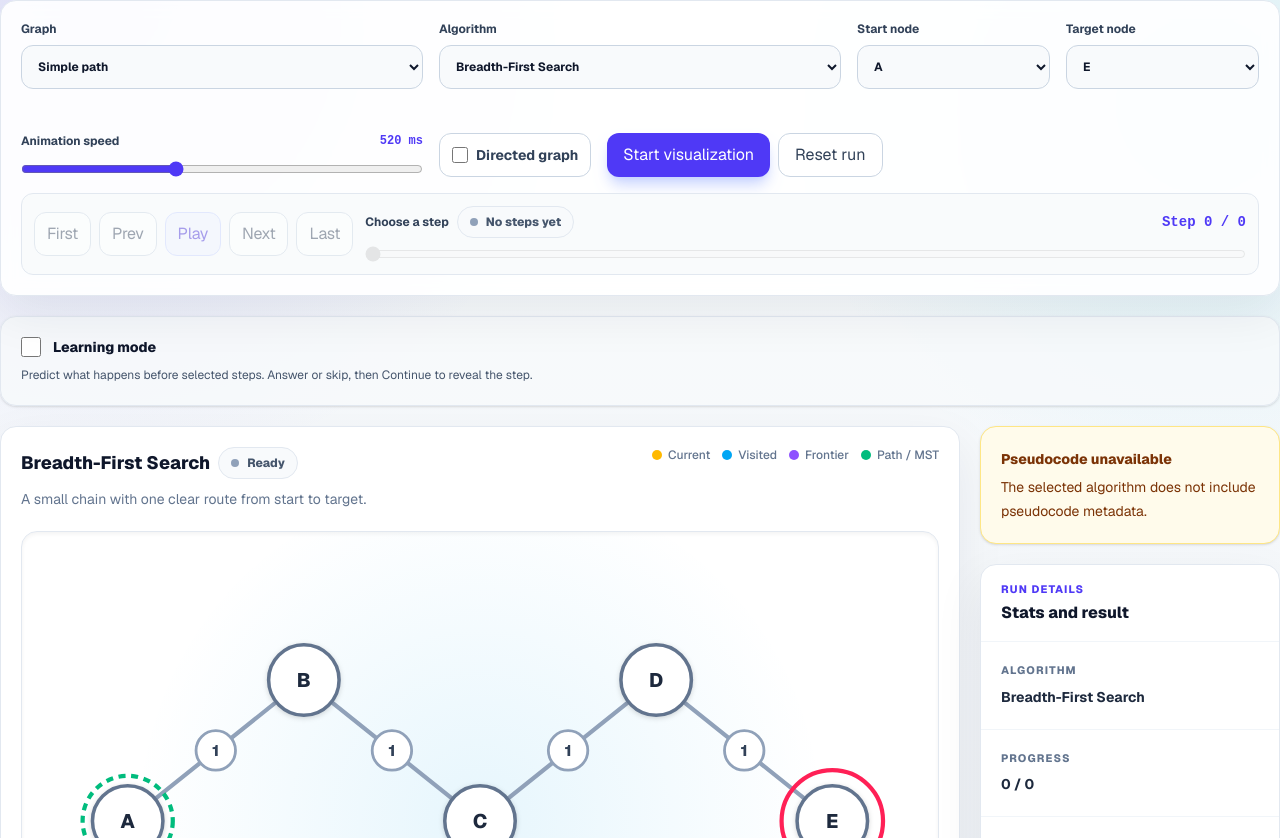
Test: visualizer learning integration › wires learning checkpoints and reset in graph
The width and height of the screenshot is (1280, 838).
Select "Breadth-First Search" in the dropdown labelled "Algorithm" at (640, 67), box [439,45,841,89]
Click the checkbox labelled "Learning mode" at (31, 347), box [21,337,41,357]
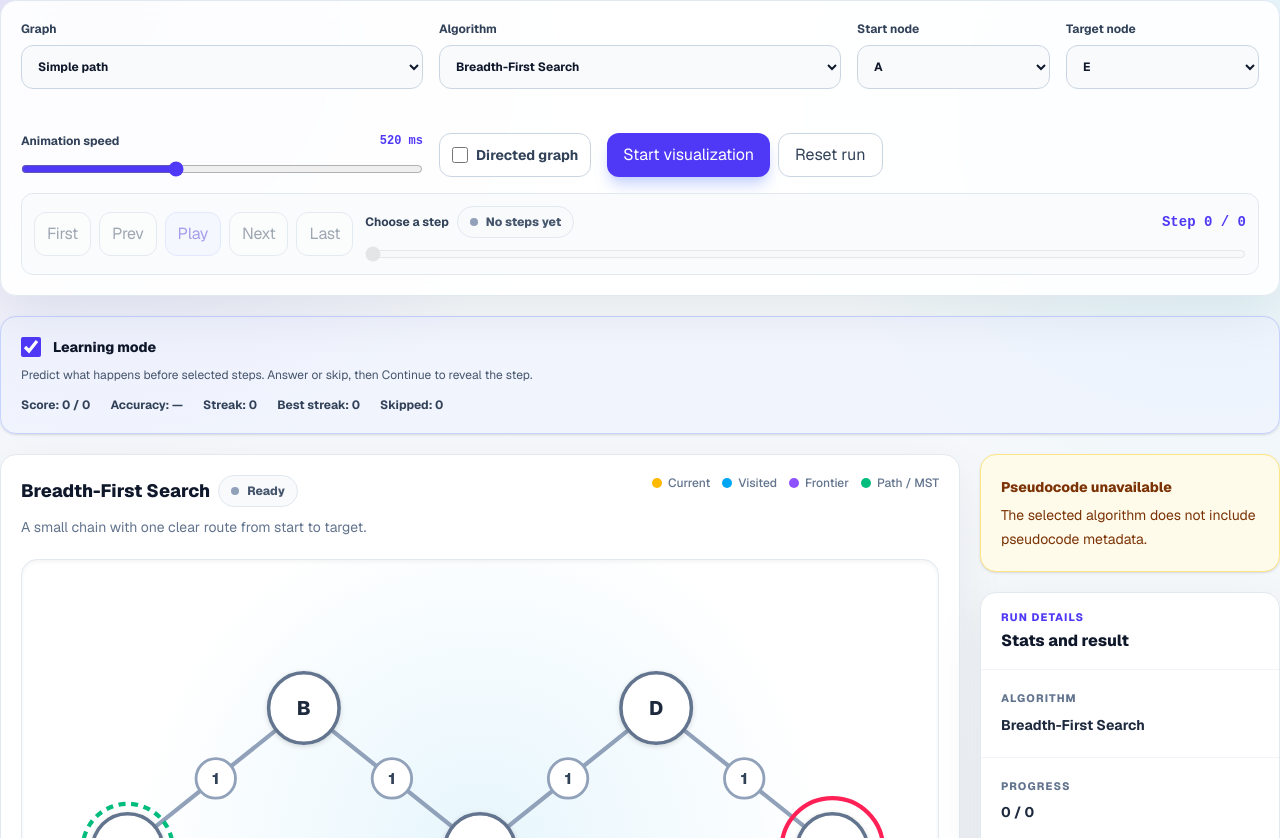
Click the button "Start visualization" at (689, 155), box [607,133,770,177]
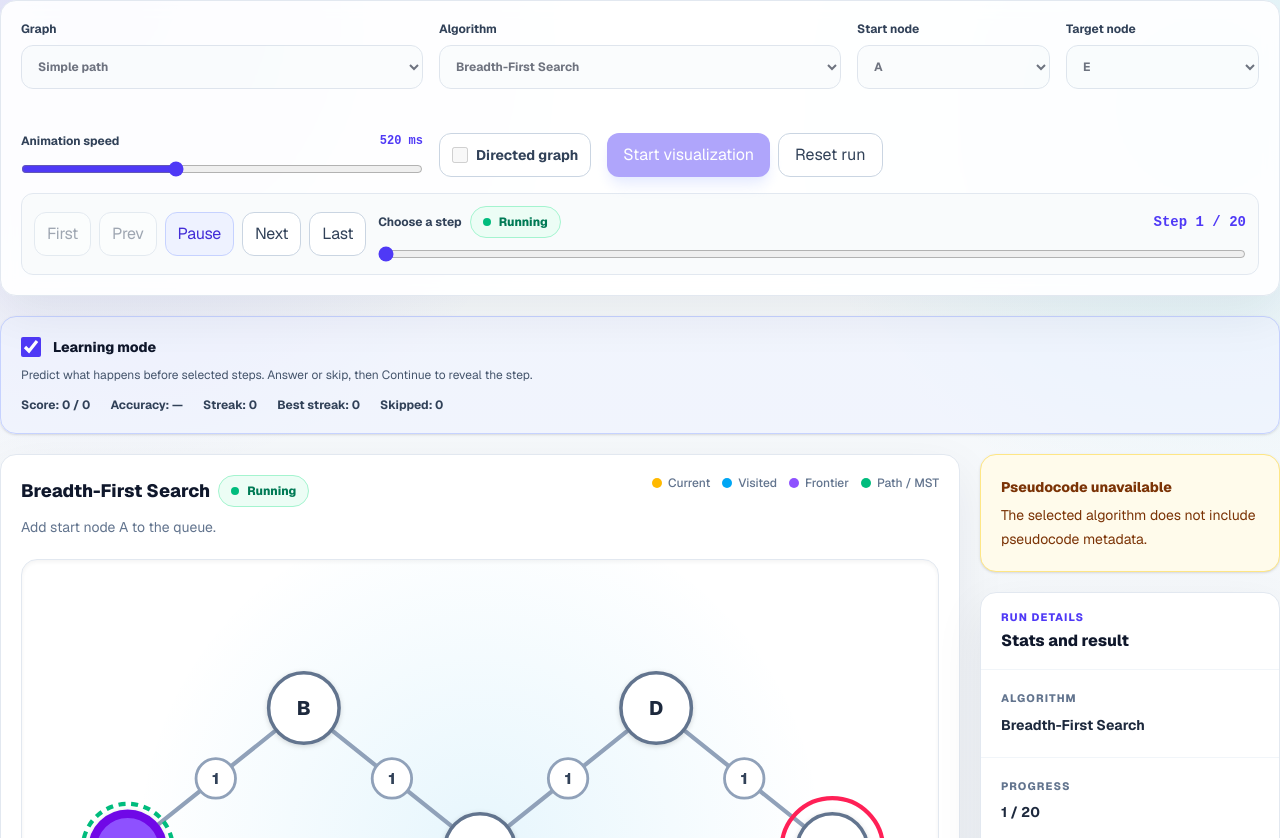
Check: the button with aria-label "Jump to last step" is enabled
Click the button with aria-label "Jump to last step" at (338, 234), box [309,212,366,256]
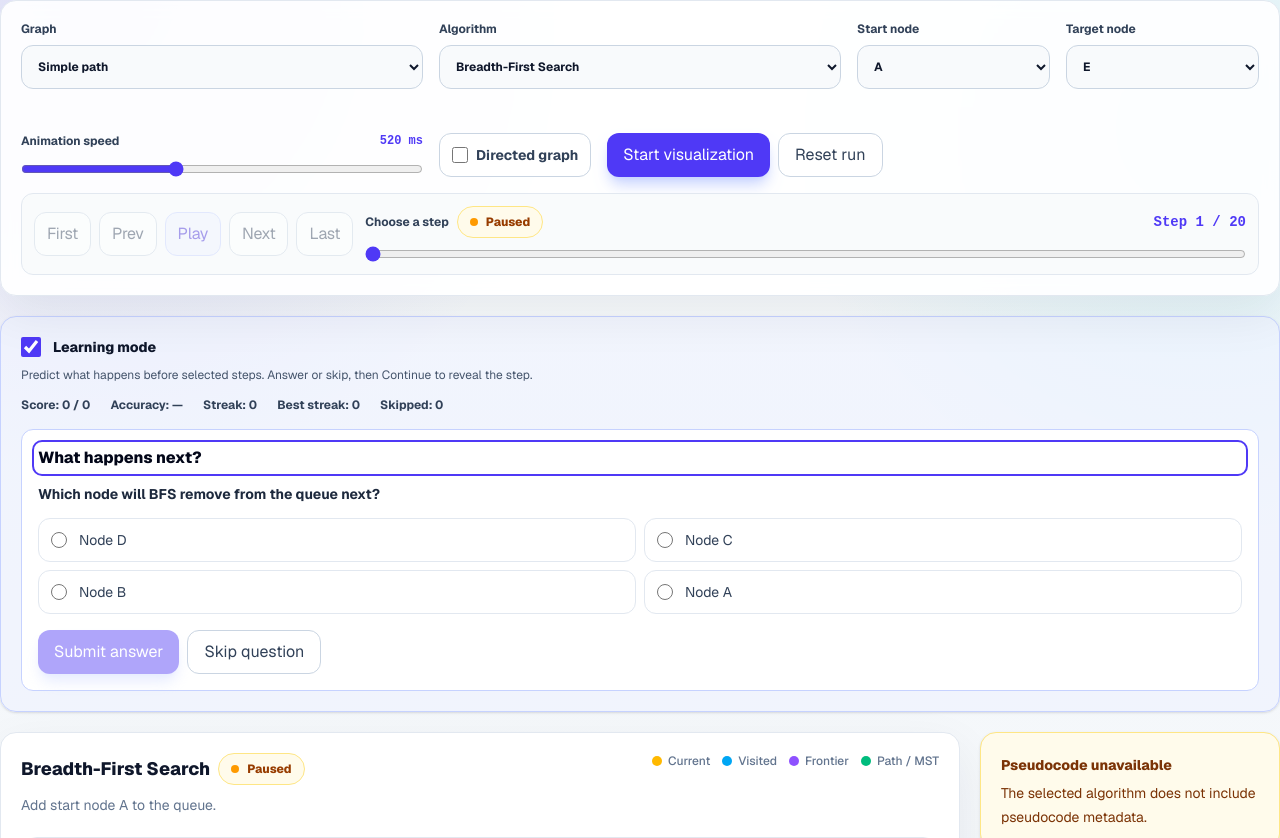
Check: the heading "What happens next?" is shown, box [38,447,202,468]
Click the button "Skip question" at (254, 652), box [187,630,321,674]
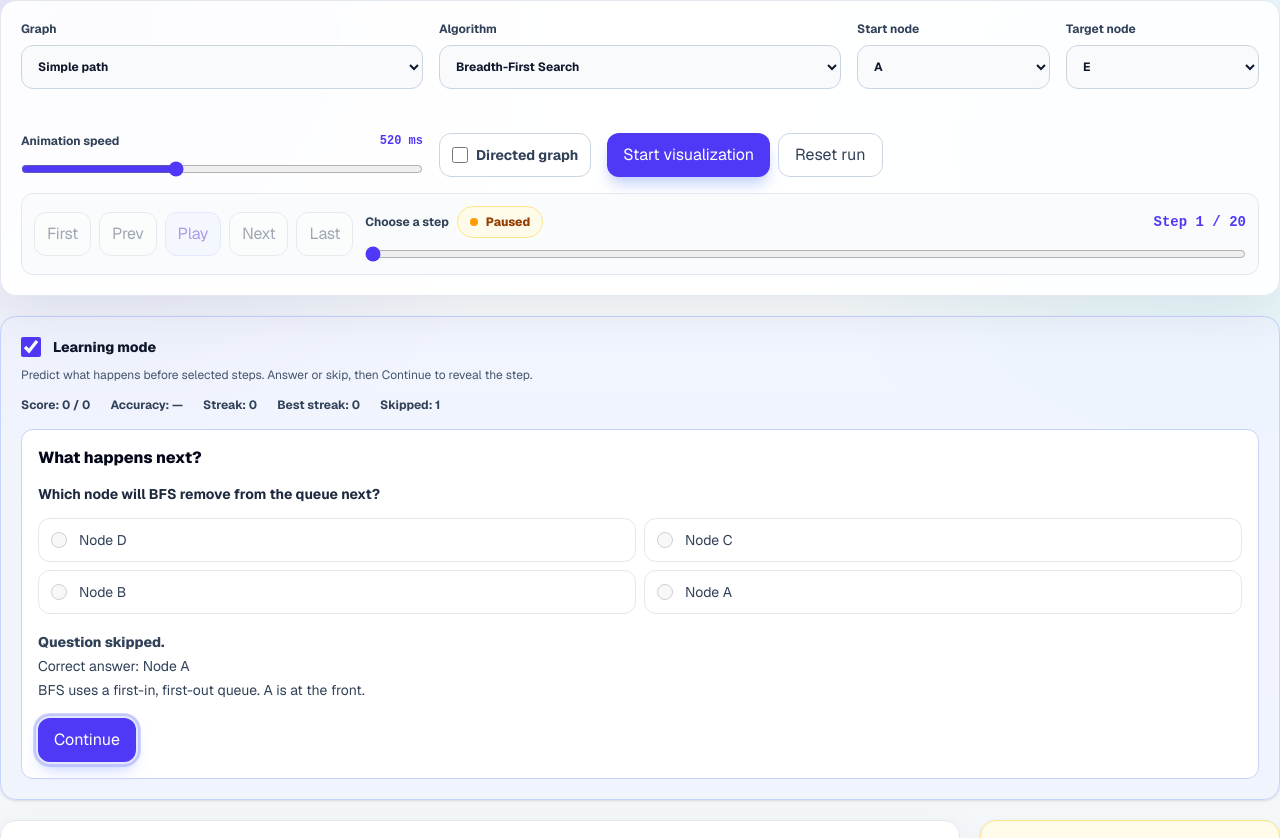
Check: the text "Skipped: 1" is shown, box [380,397,440,413]
Click the button "Continue" at (87, 740), box [38,718,136,762]
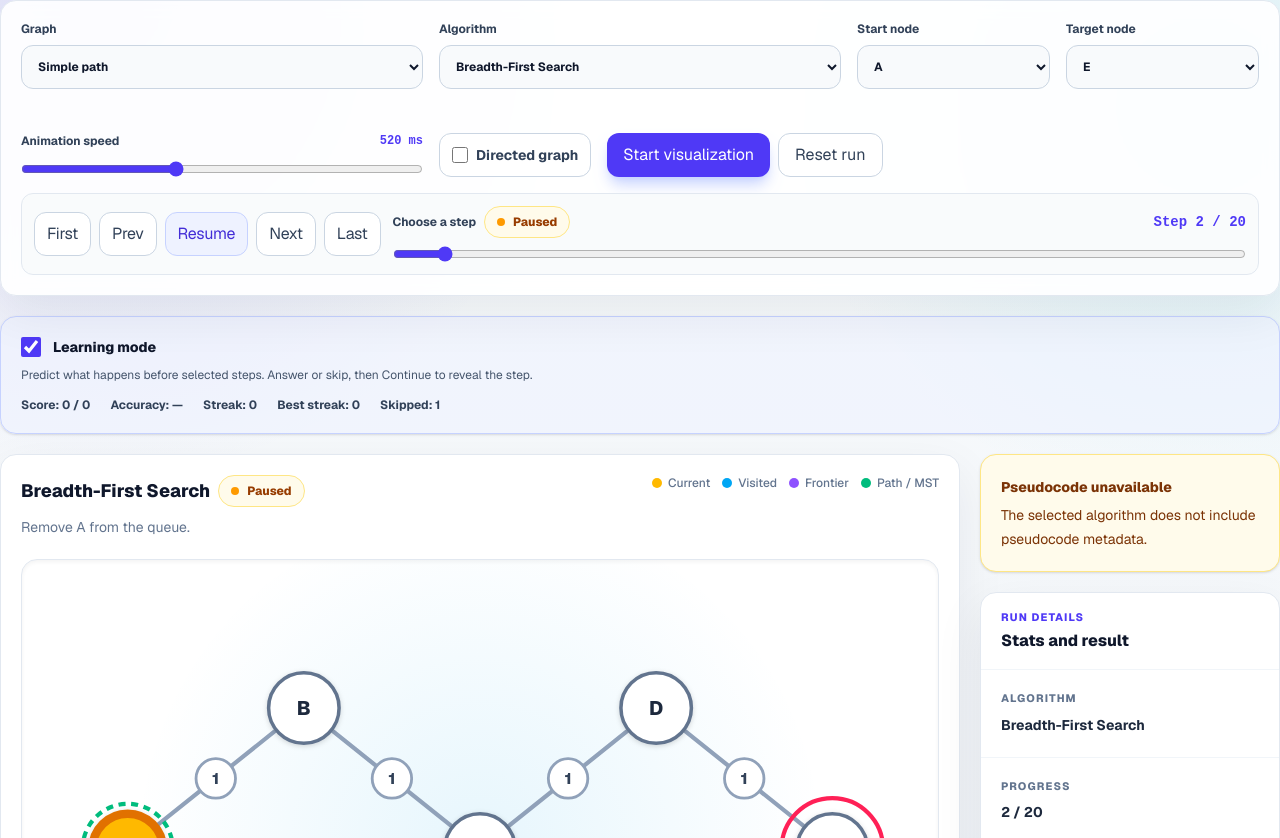
Click the button "Reset run" at (830, 155), box [778,133,882,177]
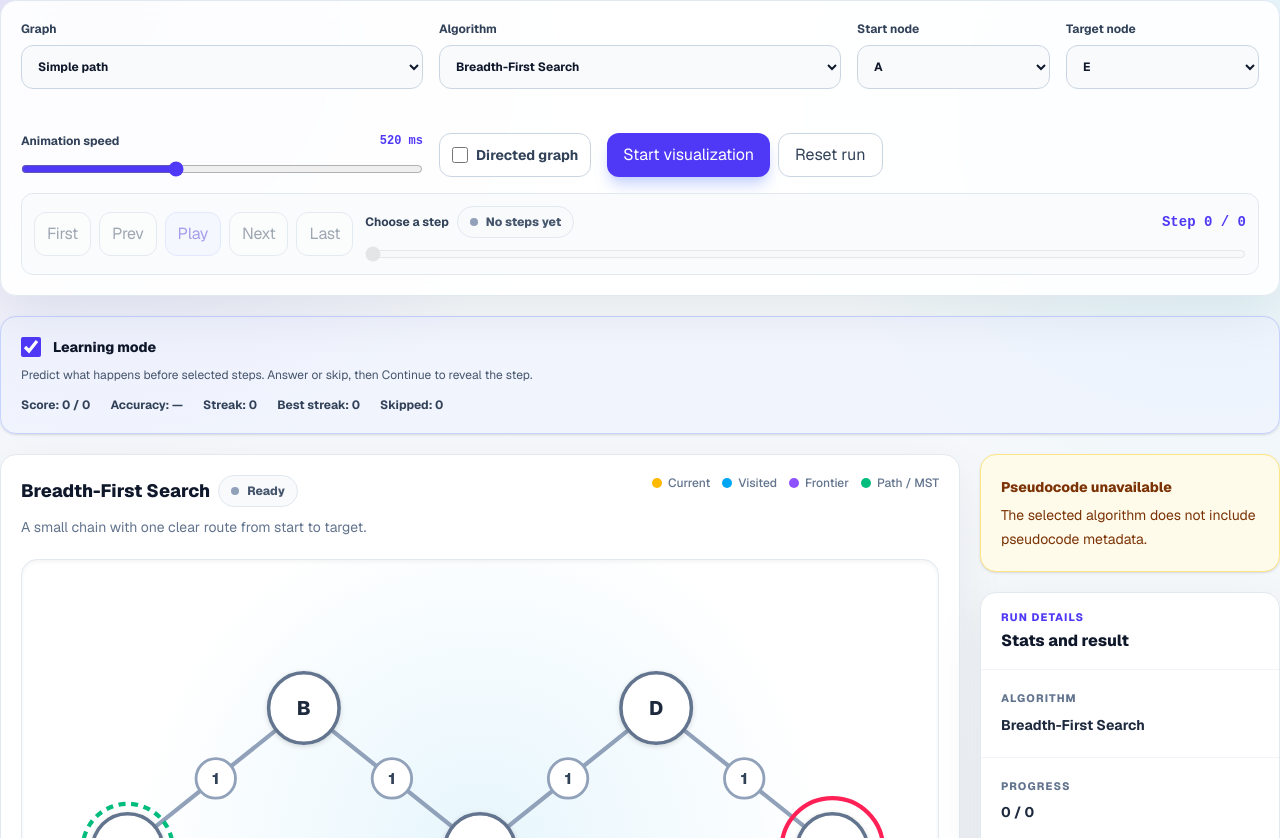
Check: the heading "What happens next?" is not shown
Check: the text "Skipped: 0" is shown, box [380,397,443,413]
